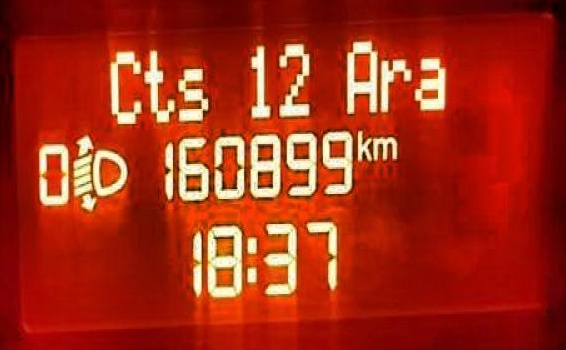0: (211, 132, 245, 202), (35, 140, 68, 205)
1: (247, 38, 273, 122), (189, 224, 203, 300), (160, 135, 175, 204)
2: (278, 38, 312, 117)
3: (263, 218, 297, 297)
6: (176, 133, 209, 202)
7: (305, 217, 339, 292)
8: (205, 222, 242, 297), (249, 130, 280, 197)
9: (284, 128, 318, 197), (320, 127, 351, 195)
X: (106, 47, 141, 125), (344, 35, 378, 114), (142, 45, 175, 124), (174, 64, 209, 124), (411, 55, 446, 112), (379, 55, 411, 112), (244, 230, 259, 287), (372, 132, 398, 162), (355, 125, 371, 162)
